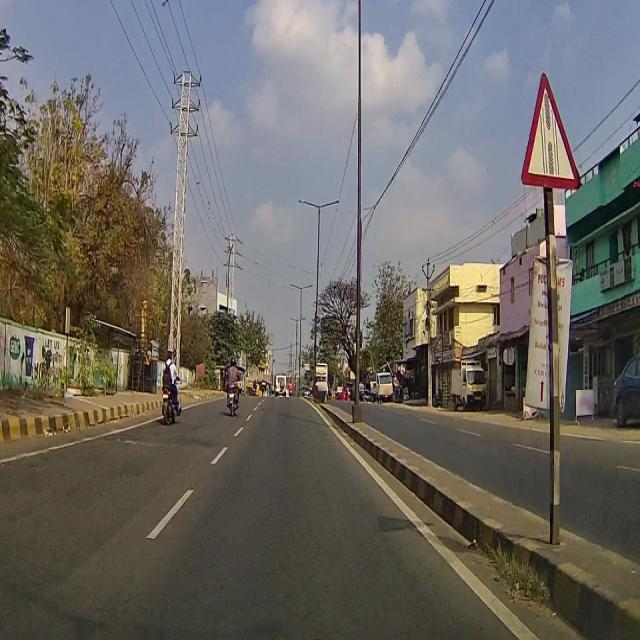gap-in-median: (521, 70, 584, 190)
